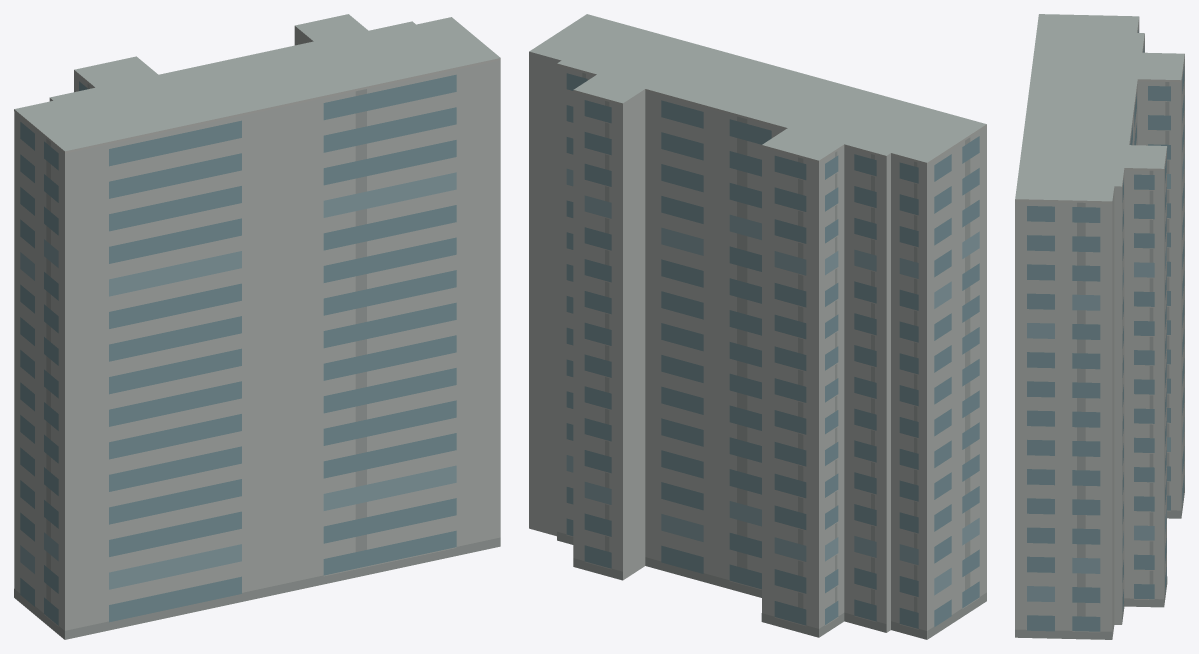
The model's file is residential-48b2c457-7cde-486b-ba43-372bc20dfd8d.glb.
3 views of the same model, side by side, from view 1: azimuth 30°, elevation 25°; view 2: azimuth 150°, elevation 25°; view 3: azimuth 270°, elevation 25° (orthographic). The views are drawn at different scales.
Parts seen in each view (by area): view 1: residential-48b2c457-7cde-486b-ba43-372bc20dfd8d.tmp; view 2: residential-48b2c457-7cde-486b-ba43-372bc20dfd8d.tmp; view 3: residential-48b2c457-7cde-486b-ba43-372bc20dfd8d.tmp.
Part boxes in pixels (x1,y1,x2,y2): residential-48b2c457-7cde-486b-ba43-372bc20dfd8d.tmp: (14,14,500,639); residential-48b2c457-7cde-486b-ba43-372bc20dfd8d.tmp: (529,14,986,639); residential-48b2c457-7cde-486b-ba43-372bc20dfd8d.tmp: (1015,14,1184,639).
Bounding box in the file's own units: 46.74 × 51 × 17.9.
